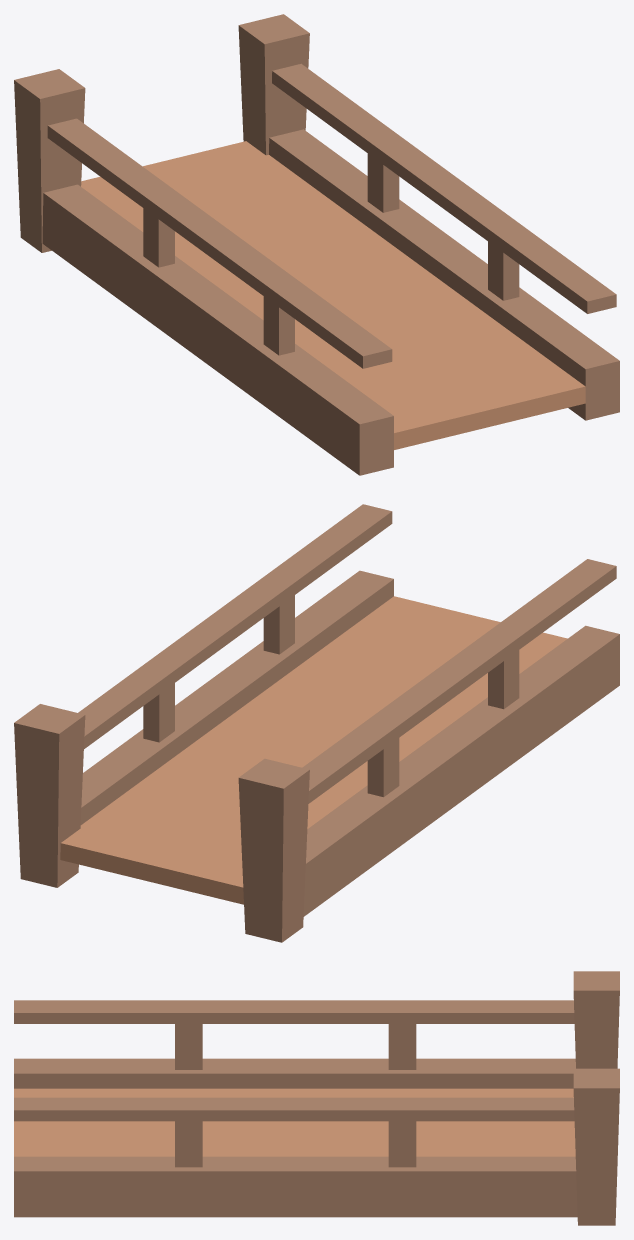
File: bridge_3a_2.fbx
The picture shows the model from 3 angles, top to bottom: view 1: azimuth 30°, elevation 25°; view 2: azimuth 150°, elevation 25°; view 3: azimuth 270°, elevation 25°; orthographic projection. The views are drawn at different scales.
Visible parts, largest first — view 1: bridge_3a_2; view 2: bridge_3a_2; view 3: bridge_3a_2.
Part boxes in pixels (x1,y1,x2,y2): bridge_3a_2: [14, 14, 619, 475]; bridge_3a_2: [14, 504, 619, 942]; bridge_3a_2: [14, 971, 619, 1225].
Bounding box in the file's own units: 9.02 × 5.01 × 19.74.
